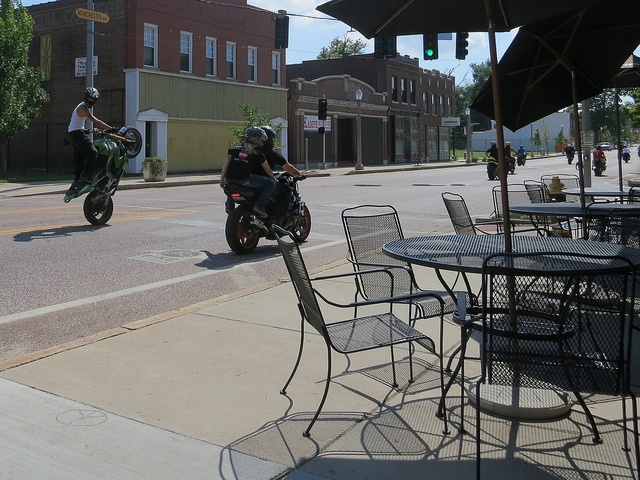non-vehicle: (62, 123, 144, 227), (222, 171, 314, 254), (487, 157, 499, 181), (591, 157, 606, 175), (517, 152, 528, 165), (566, 155, 574, 164), (624, 153, 628, 162), (638, 150, 640, 157)
